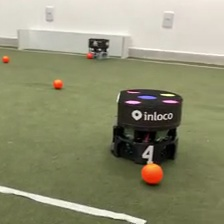ball: (139, 161, 164, 187), (52, 77, 63, 89), (1, 53, 10, 63), (86, 51, 93, 58)
goal: (16, 27, 131, 60)
robot: (108, 87, 185, 166), (87, 37, 110, 59)
